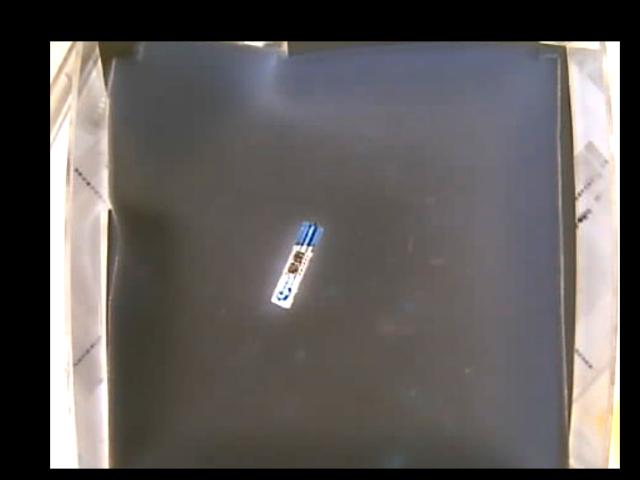Battery: (274, 220, 320, 309)
